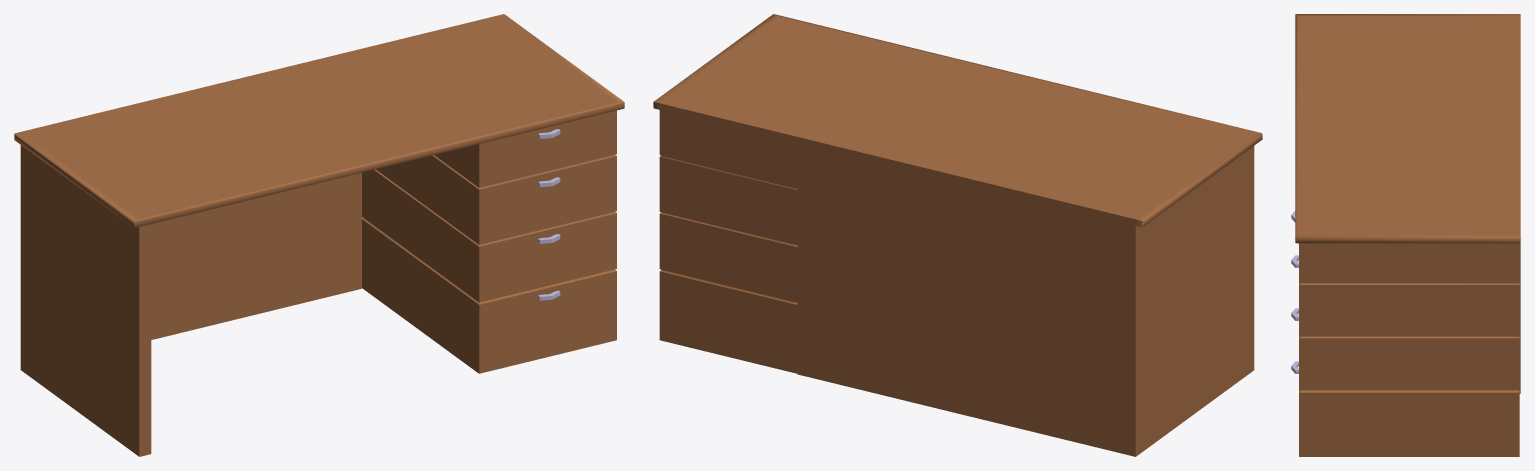
Rendered from office_desk.glb.
3 renders of one model, left to right at view 1: azimuth 30°, elevation 25°; view 2: azimuth 150°, elevation 25°; view 3: azimuth 270°, elevation 25°, orthographic. The views are drawn at different scales.
Parts seen in each view (by area): view 1: Desk.002, Cube.071, Cube.072; view 2: Desk.002, Cube.071; view 3: Desk.002, Cube.071, Cube.072.
Part boxes in pixels (bbox=[...]): Desk.002: bbox=[14, 14, 624, 456]; Cube.071: bbox=[362, 110, 616, 373]; Cube.072: bbox=[538, 129, 560, 300]; Desk.002: bbox=[653, 14, 1262, 456]; Cube.071: bbox=[659, 110, 797, 373]; Desk.002: bbox=[1295, 14, 1520, 393]; Cube.071: bbox=[1299, 243, 1519, 456]; Cube.072: bbox=[1291, 211, 1298, 373].
Size of the model in its own units: 1.55 by 0.72 by 0.6721.
